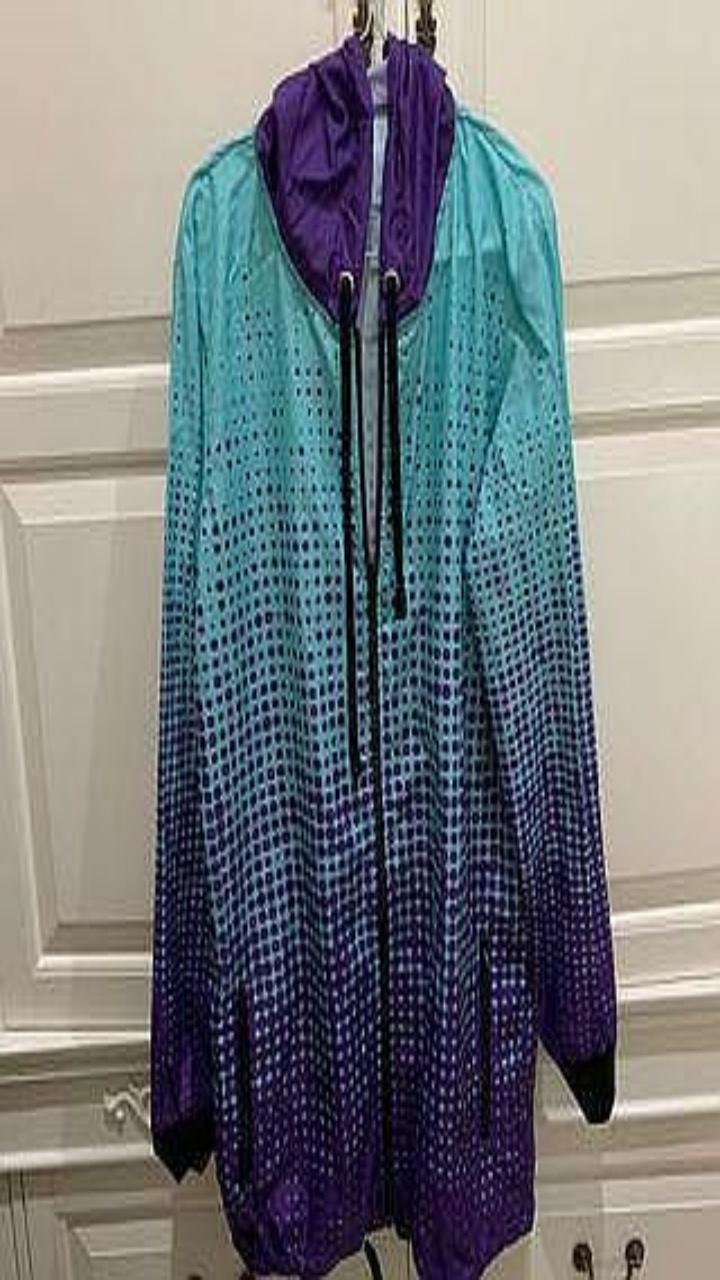Sports_Jacket: (151, 32, 615, 1279)
